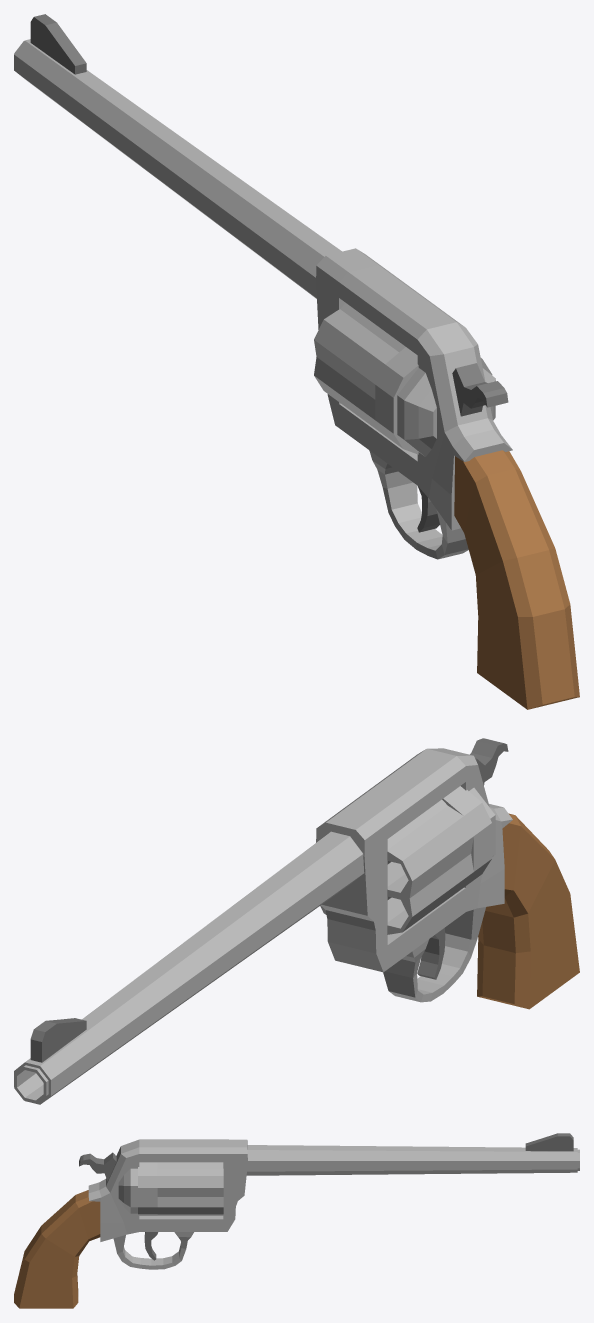
File: Revolver-A-Long.fbx
The picture shows the model from 3 angles, top to bottom: view 1: azimuth 30°, elevation 25°; view 2: azimuth 150°, elevation 25°; view 3: azimuth 270°, elevation 25°; orthographic projection. The views are drawn at different scales.
Parts seen in each view (by area): view 1: BigIron.002; view 2: BigIron.002; view 3: BigIron.002.
Part boxes in pixels (bbox=[...]): BigIron.002: bbox=[14, 14, 579, 709]; BigIron.002: bbox=[14, 738, 579, 1104]; BigIron.002: bbox=[14, 1133, 579, 1308].
Bounding box in the file's own units: 74.18 × 224 × 689.
